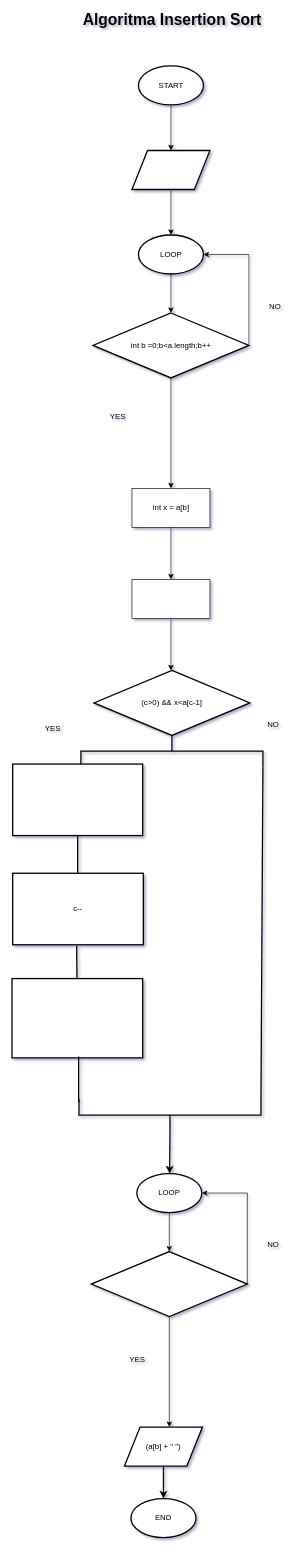
The diagram is 303 pixels wide and 1554 high, and some of its shapes have lost their labels. Each missing label, with the box of its shape:
a[c] = x: (11, 978, 143, 1058)
a[c]= a[c-1]: (12, 763, 143, 836)
input nilai array: (131, 150, 210, 190)
int b= 0 ; b<a.length;b++: (90, 1251, 248, 1317)
int c = b: (131, 579, 210, 618)
